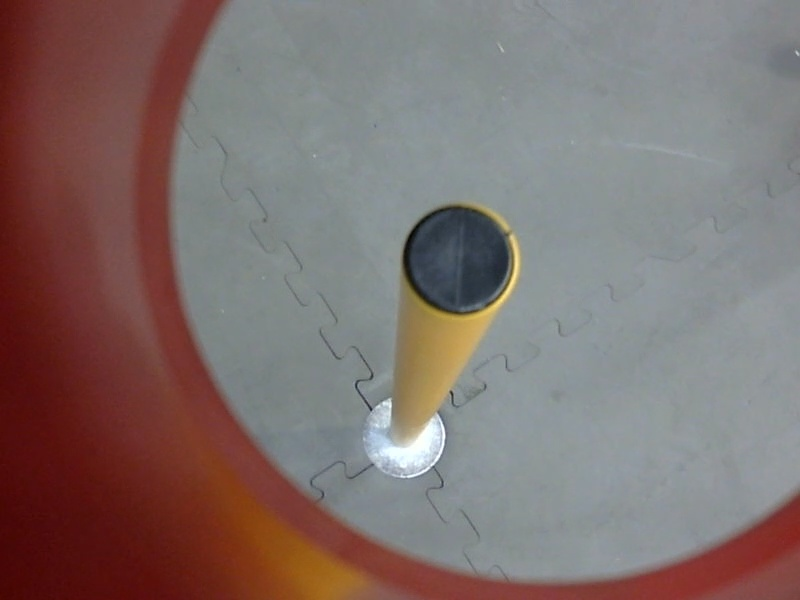tip: (391, 194, 524, 321)
